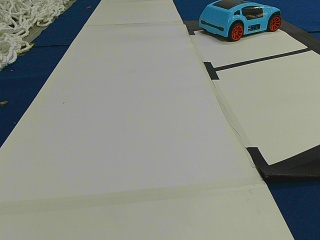car: (198, 3, 280, 40)
